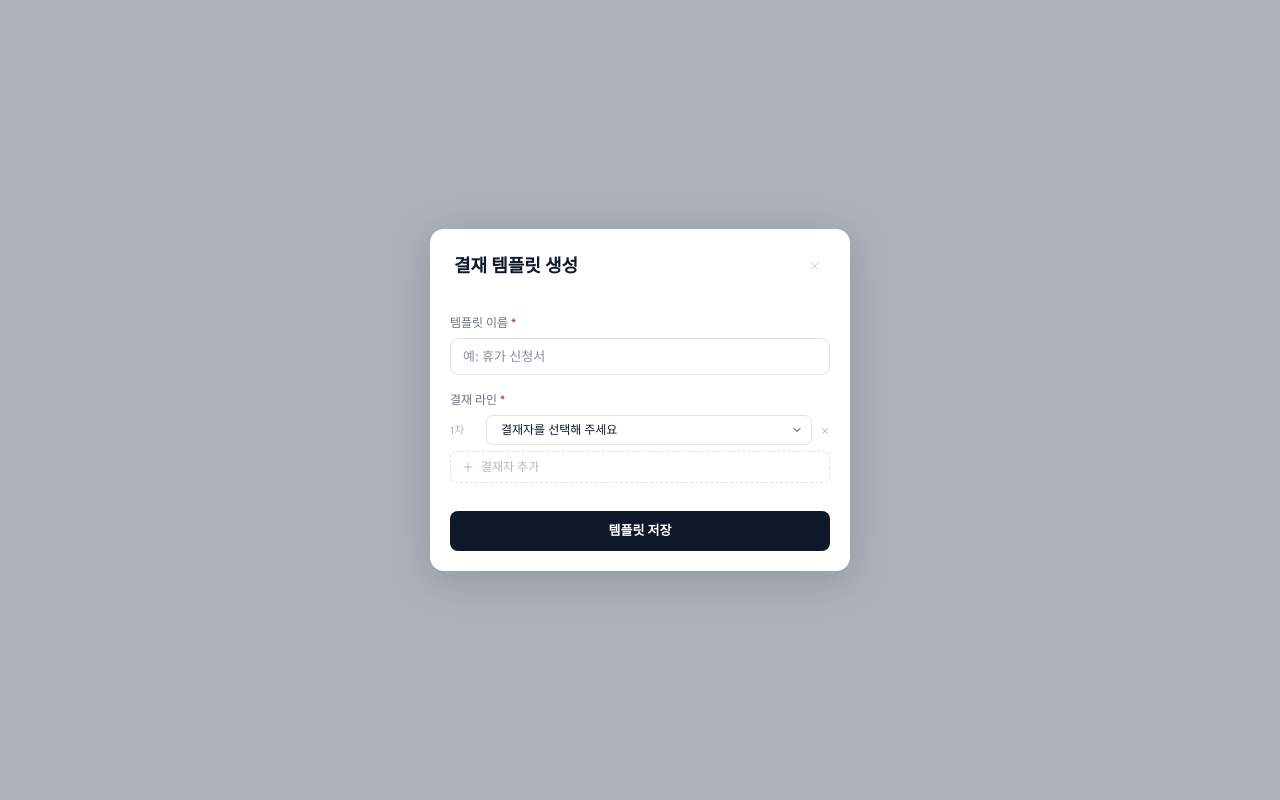
Test: CreateApprovalTemplateModal › 결재자 추가를 클릭하면 결재선 입력 행을 추가한다
The width and height of the screenshot is (1280, 800).
Expected: the dropdown named "1차 결재자" is shown, [487, 416, 811, 444]
Click the button "결재자 추가" at (510, 467), box [450, 451, 830, 483]
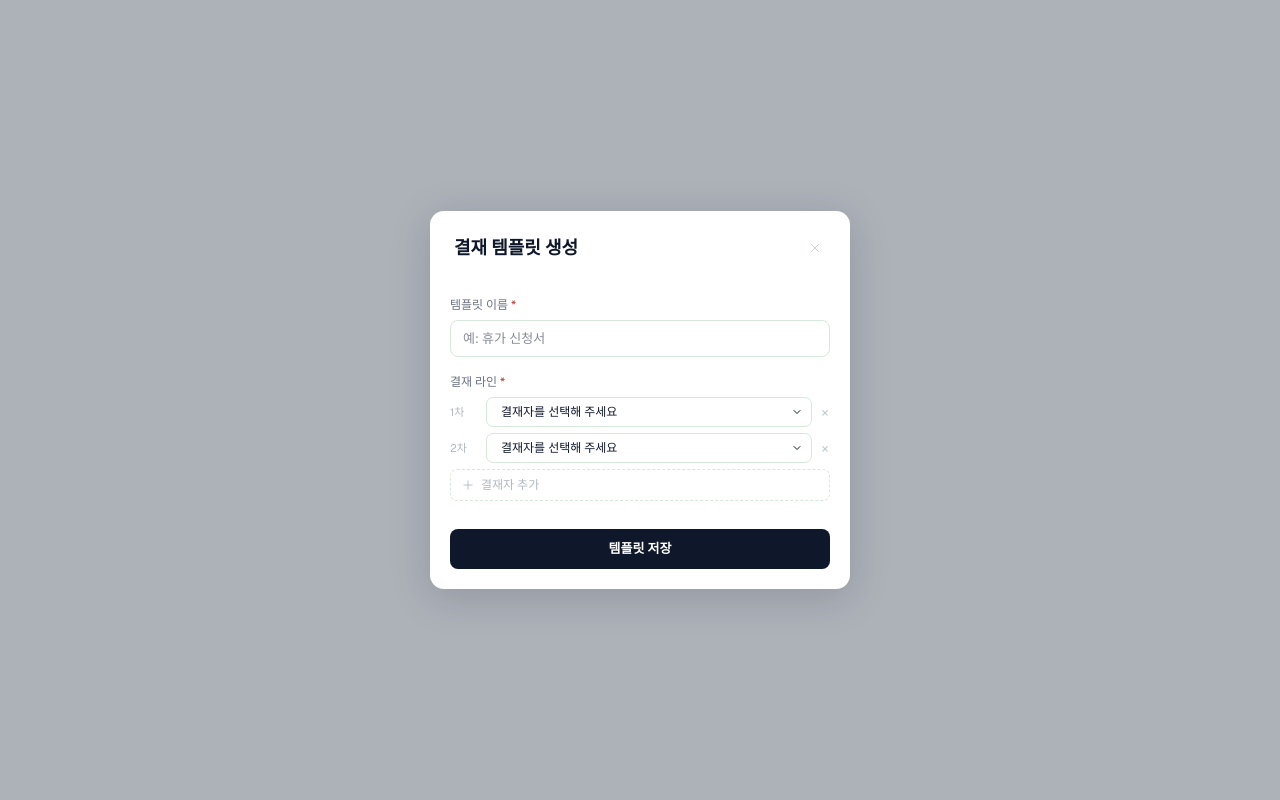
Expected: the dropdown named "2차 결재자" is shown, [487, 434, 811, 462]
